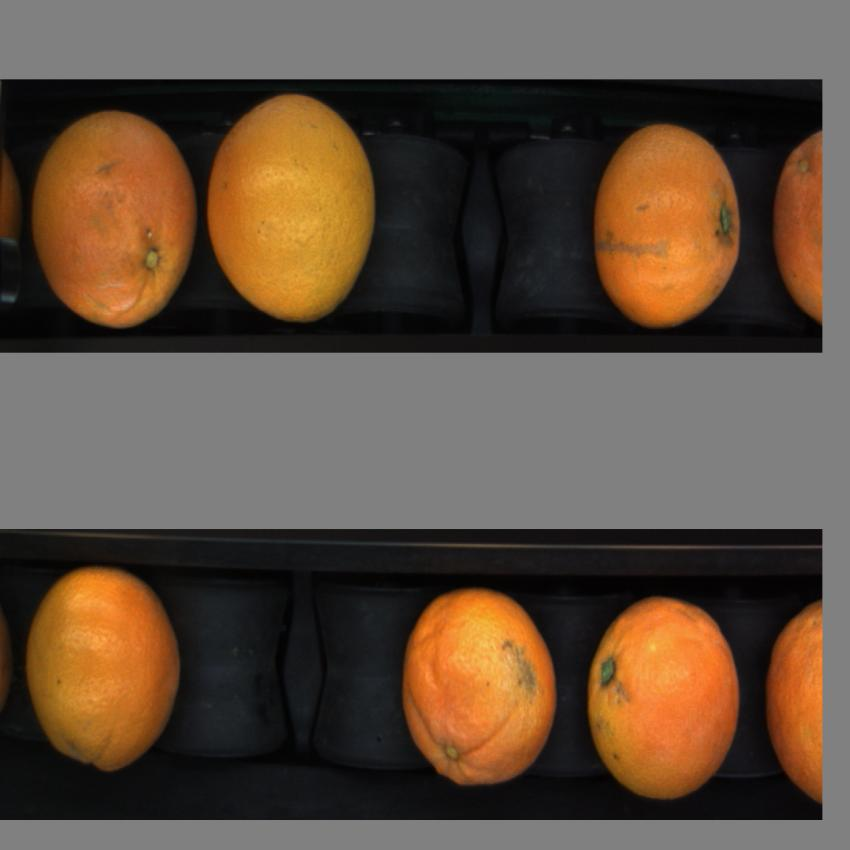Buen estado: (202, 92, 383, 322), (22, 561, 190, 782), (29, 111, 198, 329), (589, 111, 749, 329), (764, 602, 822, 804)
Mal estado: (586, 590, 747, 802), (400, 584, 567, 786), (768, 117, 823, 324)
